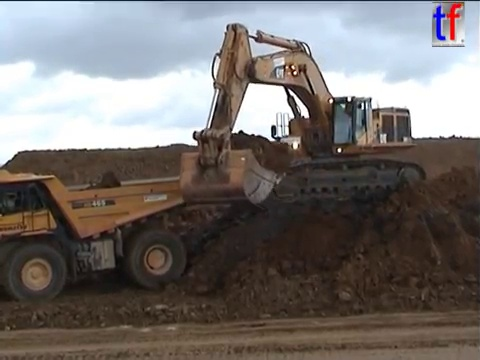excavator: (177, 20, 429, 207)
truck: (1, 166, 237, 305)
